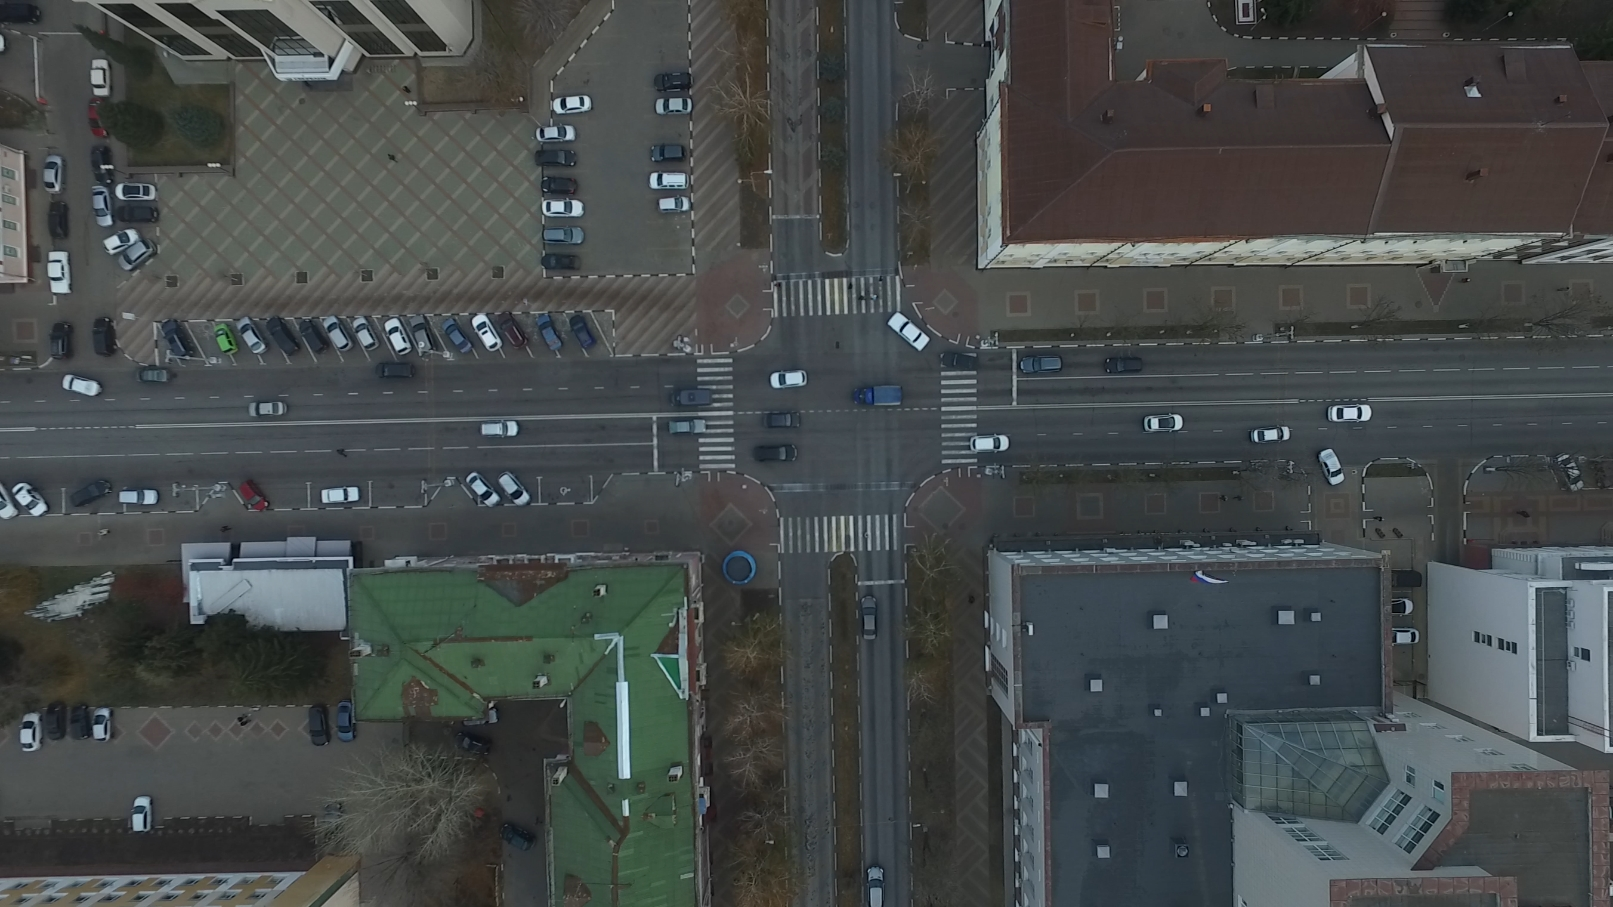car: (888, 308, 929, 352), (156, 318, 196, 360), (266, 316, 301, 358), (465, 470, 505, 505), (44, 250, 75, 296), (321, 315, 356, 354), (14, 480, 49, 518), (495, 309, 530, 347), (471, 315, 505, 352), (440, 317, 474, 354), (1557, 450, 1589, 489), (499, 822, 537, 854), (66, 480, 113, 506), (499, 470, 533, 505), (409, 313, 436, 357), (322, 800, 349, 844), (853, 384, 906, 406), (235, 317, 267, 353), (455, 730, 494, 760), (91, 317, 117, 360), (91, 186, 117, 229), (349, 315, 380, 351), (534, 315, 564, 352), (131, 795, 157, 837), (298, 318, 329, 353), (41, 152, 68, 193), (89, 145, 115, 186), (1319, 446, 1346, 486), (308, 704, 332, 748), (119, 238, 155, 267), (101, 226, 137, 255), (85, 97, 110, 141), (88, 58, 114, 96), (937, 349, 983, 371), (335, 700, 358, 743), (383, 318, 410, 355), (239, 480, 270, 512), (567, 315, 596, 349), (113, 181, 157, 203), (212, 322, 237, 360), (671, 388, 715, 410), (50, 321, 73, 362), (533, 150, 581, 169), (45, 700, 68, 742), (376, 360, 419, 381), (1143, 411, 1184, 433), (61, 375, 103, 396), (866, 864, 887, 906), (540, 227, 584, 247), (653, 73, 694, 94), (1103, 355, 1144, 377), (115, 204, 158, 224), (1328, 402, 1371, 422), (861, 595, 880, 640), (66, 705, 90, 742), (648, 171, 690, 190), (21, 713, 43, 751), (653, 97, 694, 117), (552, 94, 590, 115), (2, 4, 41, 25), (481, 418, 520, 439), (132, 365, 172, 385), (319, 485, 359, 505), (534, 124, 576, 143), (666, 416, 708, 435), (541, 200, 584, 218), (1019, 355, 1062, 373), (540, 178, 579, 197), (49, 206, 69, 244), (91, 707, 112, 742), (540, 252, 582, 270), (247, 400, 289, 418), (970, 433, 1011, 451), (769, 369, 806, 388), (654, 195, 690, 214), (756, 444, 797, 461), (1250, 425, 1291, 442), (1391, 569, 1422, 590), (117, 489, 160, 504), (1, 475, 14, 521), (649, 145, 688, 161), (766, 413, 799, 427), (1393, 628, 1420, 645), (1391, 596, 1412, 615)
